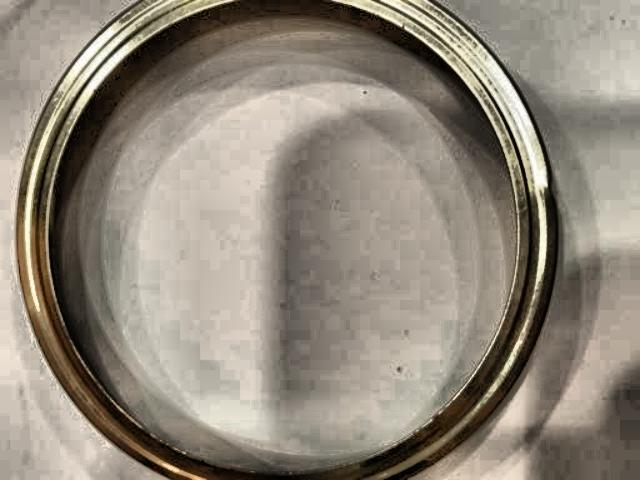Almennt: (0, 0, 581, 480)
